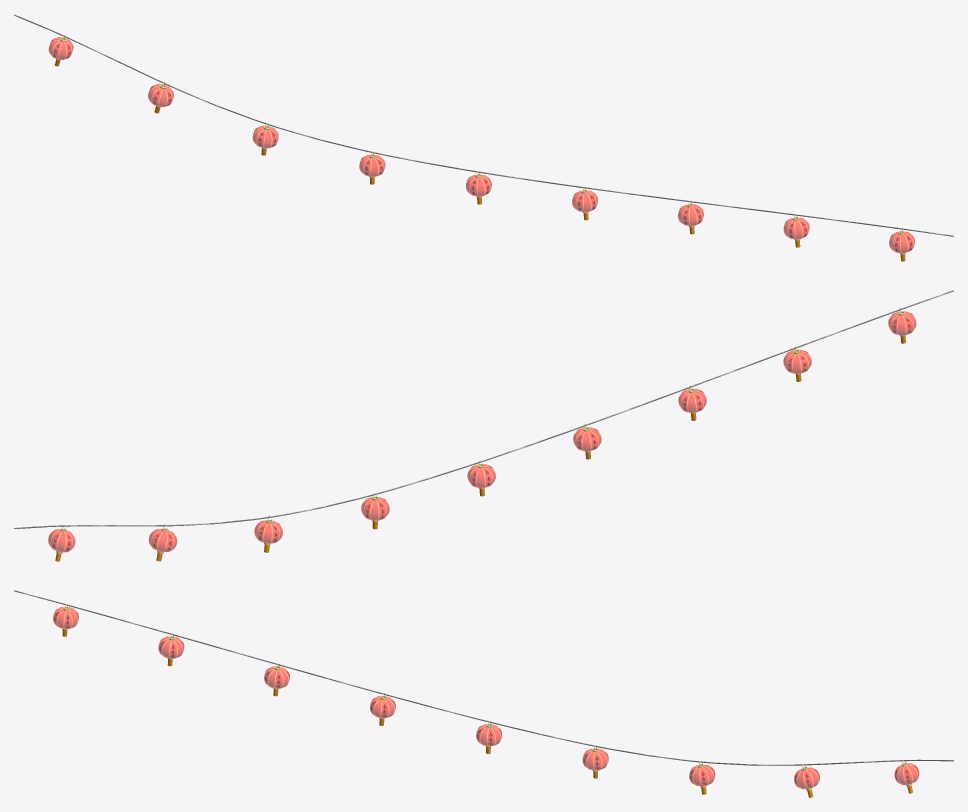
File: SM_lamp_spline_Splines_34.fbx
The picture shows the model from 3 angles, top to bottom: view 1: azimuth 90°, elevation 25°; view 2: azimuth 150°, elevation 25°; view 3: azimuth 270°, elevation 25°; orthographic projection. The views are drawn at different scales.
Visible parts, largest first — view 1: SM_lamp_spline_Splines_34; view 2: SM_lamp_spline_Splines_34; view 3: SM_lamp_spline_Splines_34.
Part boxes in pixels (<box>): SM_lamp_spline_Splines_34: <box>14,14,953,261</box>; SM_lamp_spline_Splines_34: <box>14,290,953,561</box>; SM_lamp_spline_Splines_34: <box>14,590,953,797</box>.
Size of the model in its own units: 985 by 1996 by 219.
